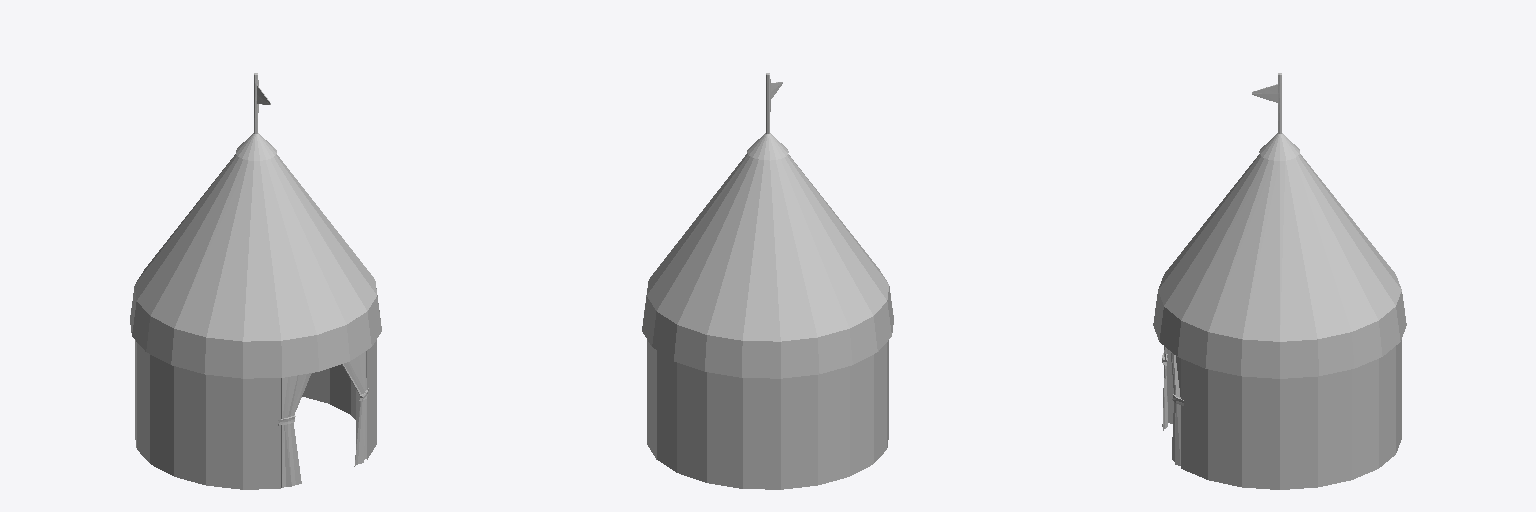
Rendered from ModelosEscenarioCastilloV2.obj.
The picture shows the model from 3 angles: view 1: azimuth 30°, elevation 25°; view 2: azimuth 150°, elevation 25°; view 3: azimuth 270°, elevation 25°; orthographic projection.
Visible parts, largest first — view 1: Manta_Manta.002; view 2: Manta_Manta.002; view 3: Manta_Manta.002.
Boxes of the visible parts, <box> form: Manta_Manta.002: <box>130,73,381,489</box>; Manta_Manta.002: <box>642,73,893,489</box>; Manta_Manta.002: <box>1153,73,1406,489</box>.
Bounding box in the file's own units: 5.18 × 8.22 × 5.18.